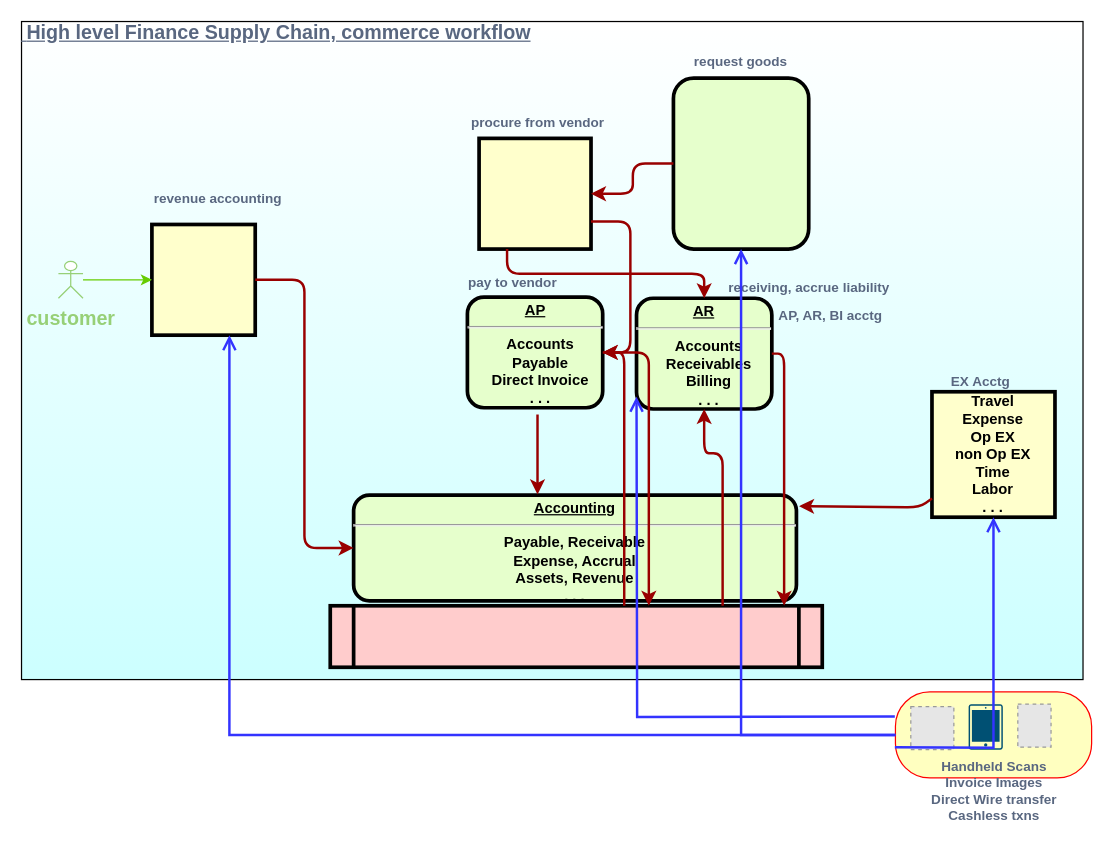
Image size: 1113x845. Some labels were removed from this diagram. Grey dashed boxes stand in for pictures. Each missing label, with the centre of its shape:
"Finance Ledger (Actual, Budget, Forecast, Stat ...)" goes at (x=575, y=636).
"Purchase PO ePro Service PO . . ." goes at (x=534, y=193).
"REQ / RECV MSR Requistion Punch Outs Order Receiving Receipts . . ." goes at (x=740, y=163).
"Sales Revenue Cash Treasury . . ." goes at (x=202, y=279).
